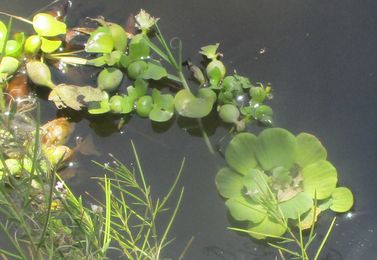water_hyacinth: (1, 2, 353, 242)
